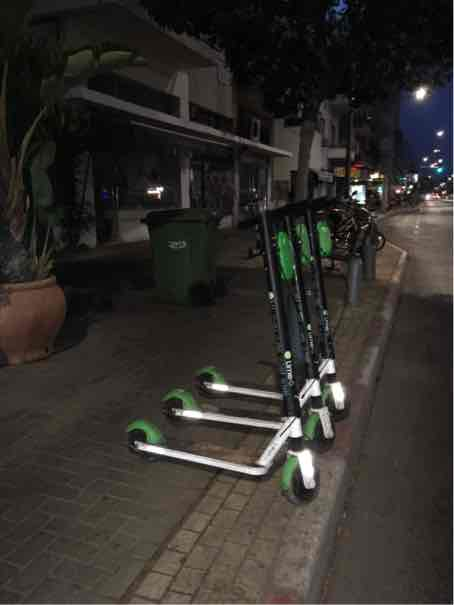too close: (264, 442, 353, 528), (292, 407, 366, 476)
